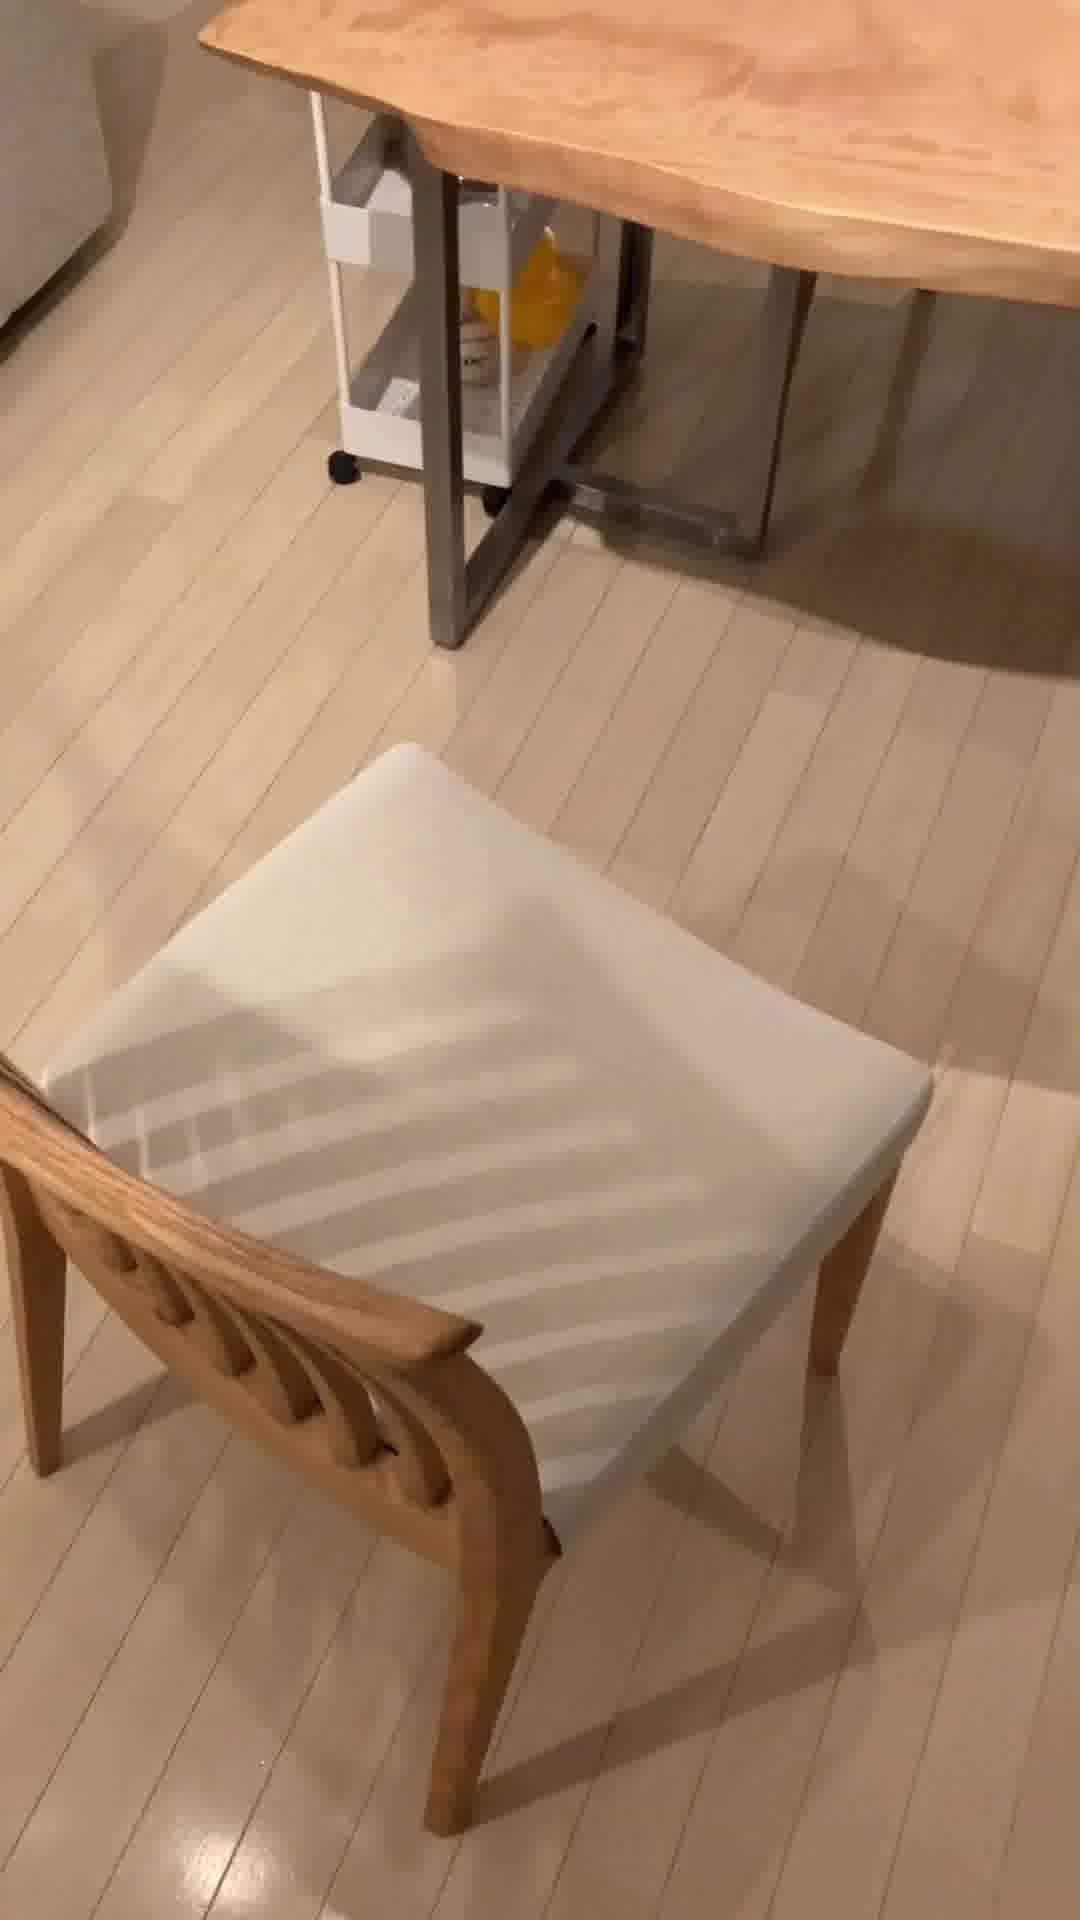takumikan-chair: (0, 738, 934, 1842)
